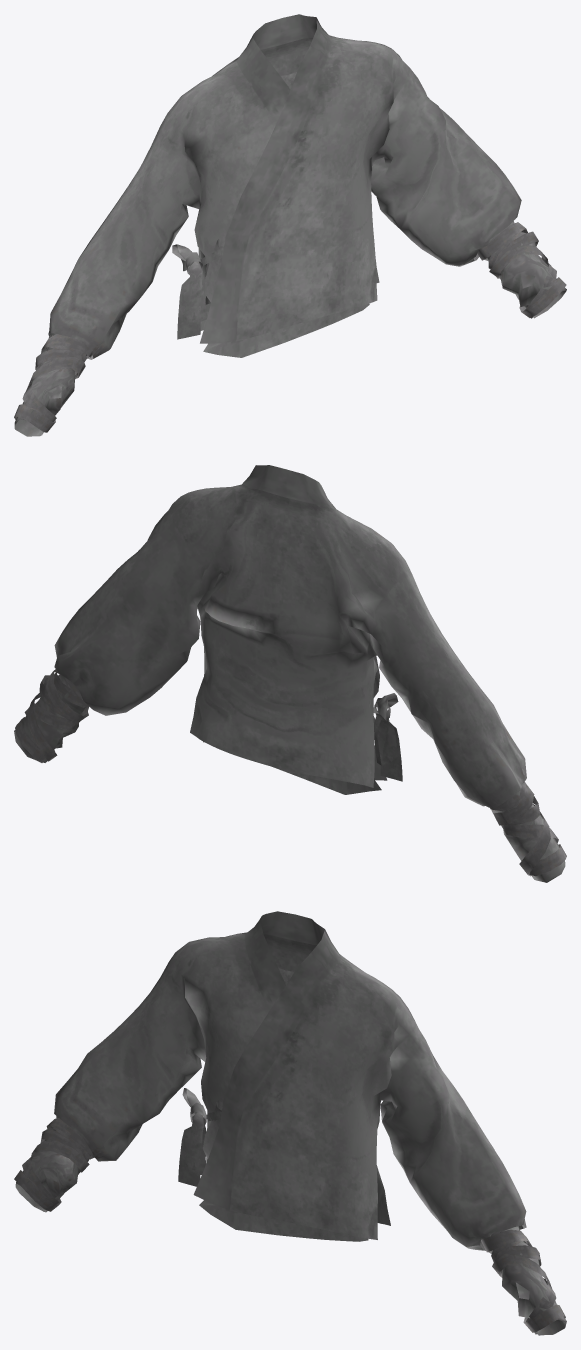
The model's file is baegjeong_Upper.dae.
3 views of the same model, one above another, from view 1: azimuth 30°, elevation 25°; view 2: azimuth 150°, elevation 25°; view 3: azimuth 330°, elevation 25° (orthographic).
Parts seen in each view (by area): view 1: baegjeong_Upper; view 2: baegjeong_Upper; view 3: baegjeong_Upper.
Part boxes in pixels (x1,y1,x2,y2): baegjeong_Upper: (14, 14, 566, 436); baegjeong_Upper: (14, 465, 566, 882); baegjeong_Upper: (14, 911, 566, 1335).
Size of the model in its own units: 1.47 by 0.0765 by 0.9129.
1 material, 1 textured.
